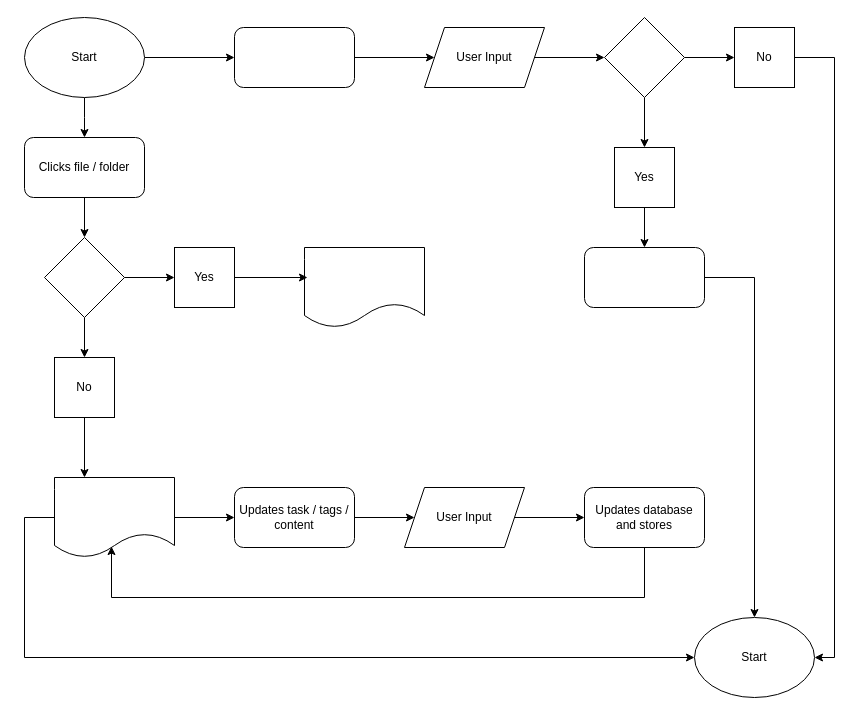
The diagram is 860 pixels wide and 715 high, and some of its shapes have lost their labels. Each missing label, with the box of its shape:
Clicks "new journal" button: (234, 26, 354, 88)
Create Confirmation: (604, 16, 684, 98)
Creates Journal: (584, 246, 704, 308)
Folders and files within this folder: (304, 246, 424, 328)
Is Folder: (44, 236, 124, 318)
Journal information, and editor: (54, 476, 174, 558)
